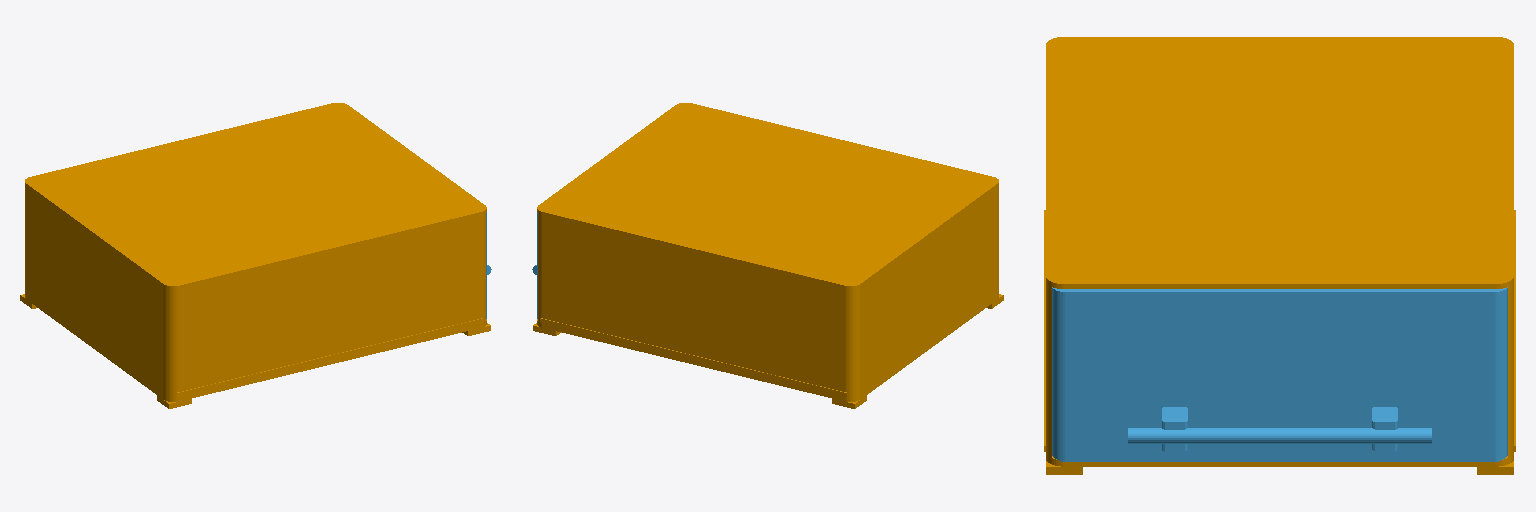
URDF robot description (ep0_drawer):
<?xml version="1.0"?>
<!-- Generated by scripts/make_drawer_asset.py from robot.urdf.
     Geometry baked +90 deg about z so the slide axis is +X, matching the
     convention every offset in drawer_open_place/action_config.json assumes.
     handle_xpos is derived from the tray geometry, not hand-placed.
     Collision shapes are a CoACD decomposition of the same baked meshes. -->
<robot name="ep0_drawer">
  <link name="outer_box">
    <inertial><origin xyz="0.000000 0.000000 0.045000" rpy="0 0 0"/>
      <mass value="0.7"/>
      <inertia ixx="0.002833917" ixy="0" ixz="0" iyy="0.004118333" iyz="0" izz="0.006007251"/></inertial>
    <visual><origin xyz="0 0 0" rpy="0 0 0"/>
      <geometry><mesh filename="meshes/outer_shell_baked.obj"/></geometry></visual>
    <collision><origin xyz="0 0 0" rpy="0 0 0"/>
      <geometry><mesh filename="meshes/outer_shell_acd.obj"/></geometry></collision>
  </link>

  <link name="inner_box">
    <inertial><origin xyz="0.009980 -0.000000 0.040000" rpy="0 0 0"/>
      <mass value="0.4"/>
      <inertia ixx="0.001476936" ixy="0" ixz="0" iyy="0.00254207" iyz="0" izz="0.003592339"/></inertial>
    <visual><origin xyz="0 0 0" rpy="0 0 0"/>
      <geometry><mesh filename="meshes/drawer_tray_baked.obj"/></geometry></visual>
    <collision><origin xyz="0 0 0" rpy="0 0 0"/>
      <geometry><mesh filename="meshes/drawer_tray_acd.obj"/></geometry></collision>
  </link>

  <link name="handle_xpos"/>

  <joint name="slide_rails" type="prismatic">
    <origin xyz="0.003350 -0.000000 0.006500" rpy="0 0 0"/>
    <parent link="outer_box"/><child link="inner_box"/>
    <axis xyz="-1 0 0"/>
    <limit lower="-0.245" upper="0.0" effort="25.0" velocity="1.0" acceleration="5.0"/>
  </joint>

  <joint name="fixed_handle" type="fixed">
    <origin xyz="0.126637 -0.000000 0.020000" rpy="0 -1.5707963268 0"/>
    <parent link="inner_box"/><child link="handle_xpos"/>
  </joint>
</robot>

--- Facts derived from the render (not from the file) ---
3 views of the same robot in one strip: view 1: azimuth 30°, elevation 25°; view 2: azimuth 150°, elevation 25°; view 3: azimuth 270°, elevation 25° (orthographic).
Robot: ep0_drawer — 3 links, 2 joints (1 prismatic, 1 fixed); root link outer_box; default pose: all joints at 0.
Links seen in each view (by area): view 1: outer_box; view 2: outer_box; view 3: outer_box, inner_box.
Link boxes in pixels (box(x1,y1,x2,y2)): outer_box: box(20, 103, 490, 408); outer_box: box(533, 103, 1003, 408); outer_box: box(1044, 37, 1515, 474); inner_box: box(1052, 287, 1507, 461).
Bounding box of the posed robot: 0.2705 × 0.2012 × 0.09 m (x, y, z).
Meshes: 2 distinct files referenced, 2 mesh visuals loaded (2 OBJ).
